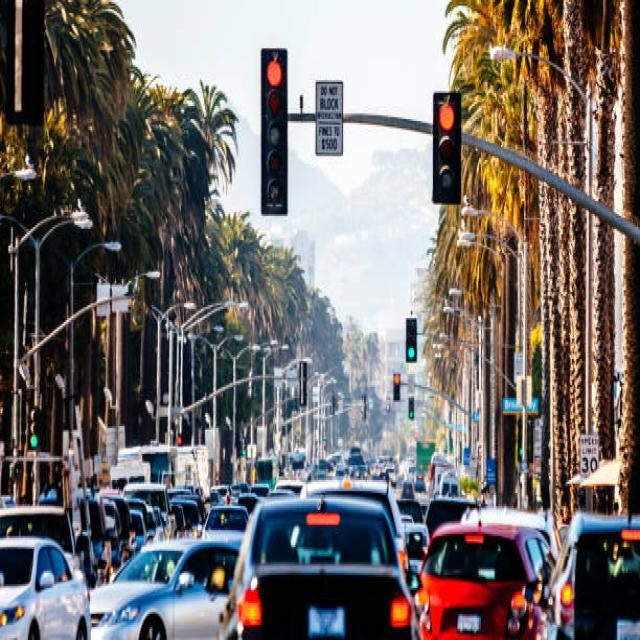Car: (418, 521, 556, 638), (91, 536, 243, 638), (0, 534, 91, 638)
Traffic-light: (260, 46, 288, 214), (432, 89, 461, 205), (405, 316, 417, 361), (392, 370, 401, 400)
Traffic-sign: (314, 78, 343, 155)
